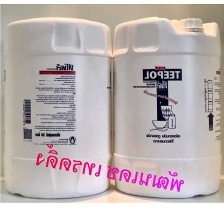cleaning_solution: (108, 13, 223, 201), (0, 15, 114, 202)
